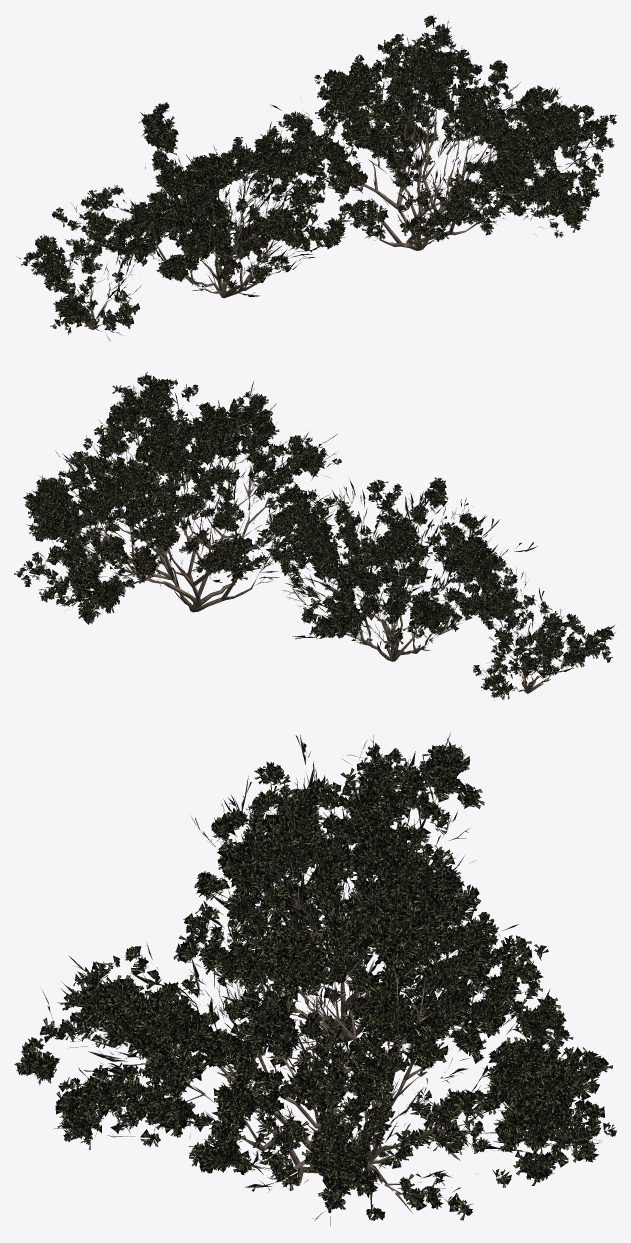
File: searsia_burchellii.glb
3 views of the same model, one above another, from view 1: azimuth 30°, elevation 25°; view 2: azimuth 150°, elevation 25°; view 3: azimuth 270°, elevation 25° (orthographic). The views are drawn at different scales.
Visible parts, largest first — view 1: searsia_burchellii_large_LOD0; view 2: searsia_burchellii_large_LOD0; view 3: searsia_burchellii_large_LOD0.
Boxes of the visible parts, <box> form: searsia_burchellii_large_LOD0: <box>16,14,616,340</box>; searsia_burchellii_large_LOD0: <box>14,372,615,700</box>; searsia_burchellii_large_LOD0: <box>14,732,616,1225</box>.
Bounding box in the file's own units: 8.33 × 3.21 × 5.05.
2 materials, 2 textured.
